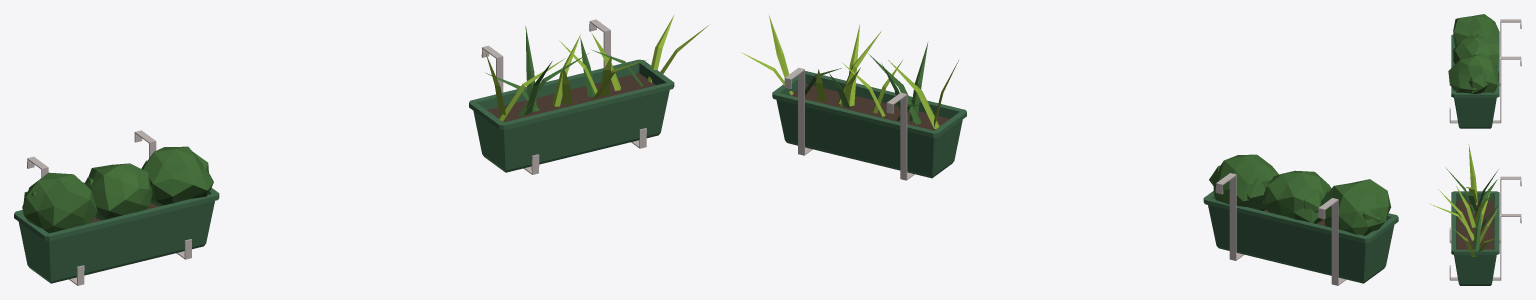
Rendered from SM_Fixture_RailPlanterShort25620_Box_Green_01.gltf.
3 renders of one model, left to right at view 1: azimuth 30°, elevation 25°; view 2: azimuth 150°, elevation 25°; view 3: azimuth 270°, elevation 25°, orthographic. The views are drawn at different scales.
Visible parts, largest first — view 1: SM_Fixture_RailPlanterShort25620_Box_Green_01; view 2: SM_Fixture_RailPlanterShort25620_Box_Green_01; view 3: SM_Fixture_RailPlanterShort25620_Box_Green_01.
Boxes of the visible parts, left/top/right/bottom form: SM_Fixture_RailPlanterShort25620_Box_Green_01: left=14, top=15, right=708, bottom=285; SM_Fixture_RailPlanterShort25620_Box_Green_01: left=741, top=15, right=1398, bottom=285; SM_Fixture_RailPlanterShort25620_Box_Green_01: left=1430, top=14, right=1521, bottom=285.
Bounding box in the file's own units: 2.48 × 0.4312 × 0.4274.
1 material, 1 textured.
